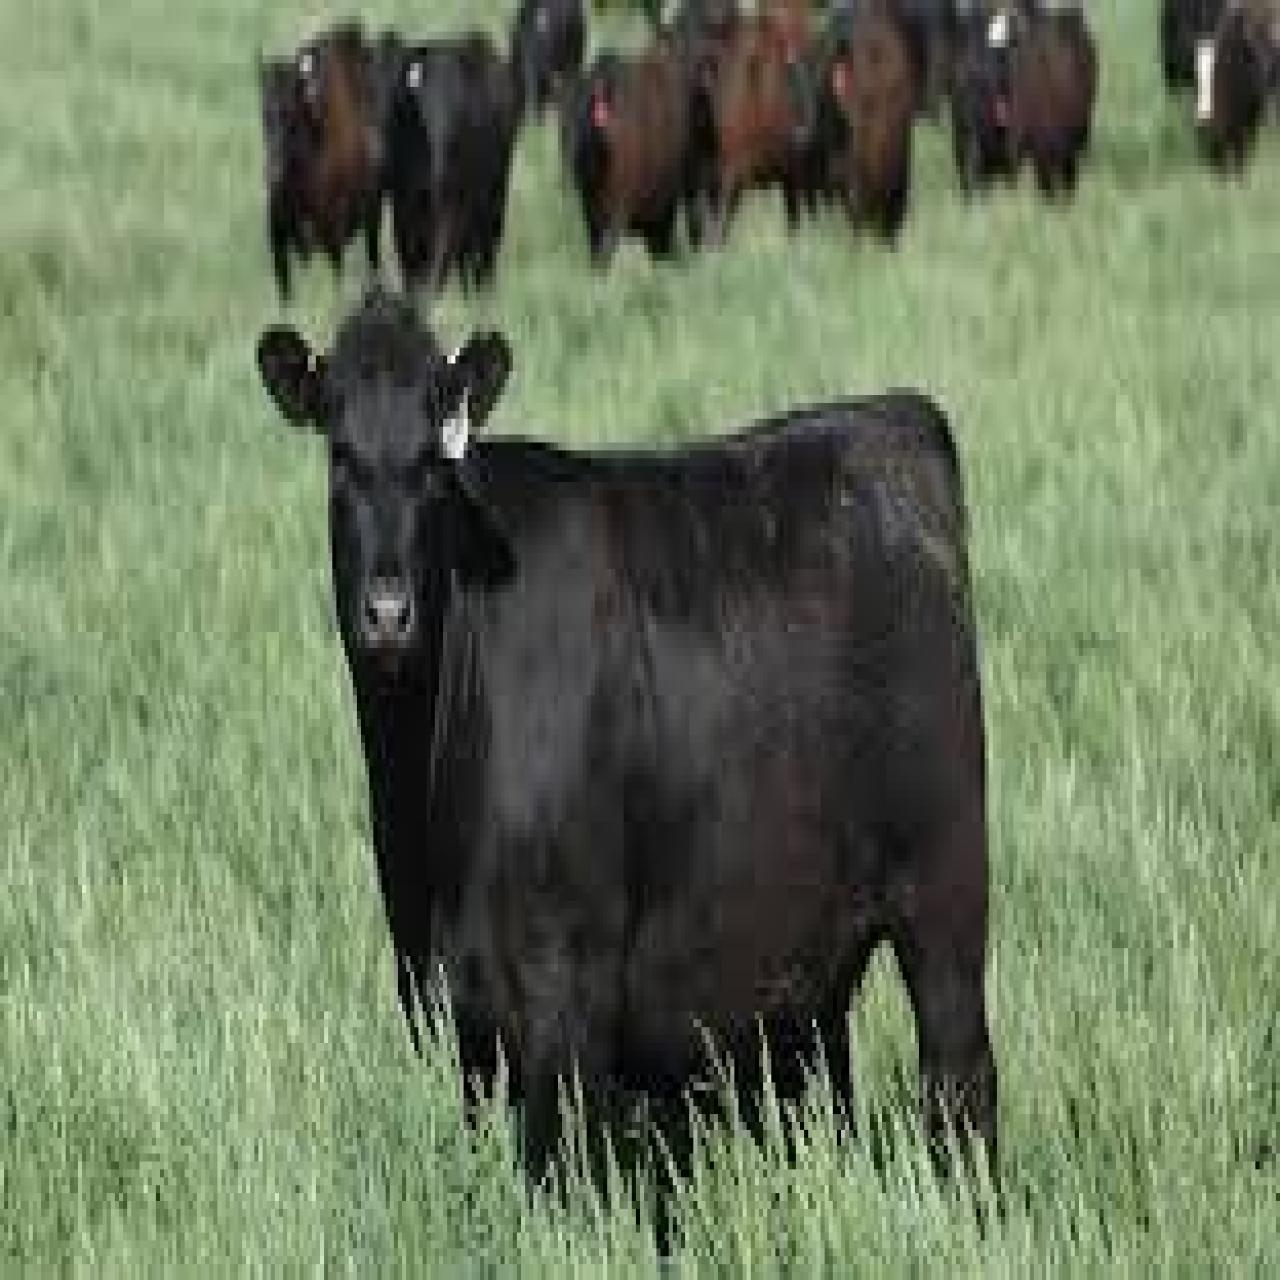cow: (254, 288, 1001, 1220), (549, 43, 716, 280), (382, 23, 525, 285), (252, 8, 380, 300), (952, 0, 1099, 198), (1182, 0, 1280, 189), (508, 0, 586, 125)
